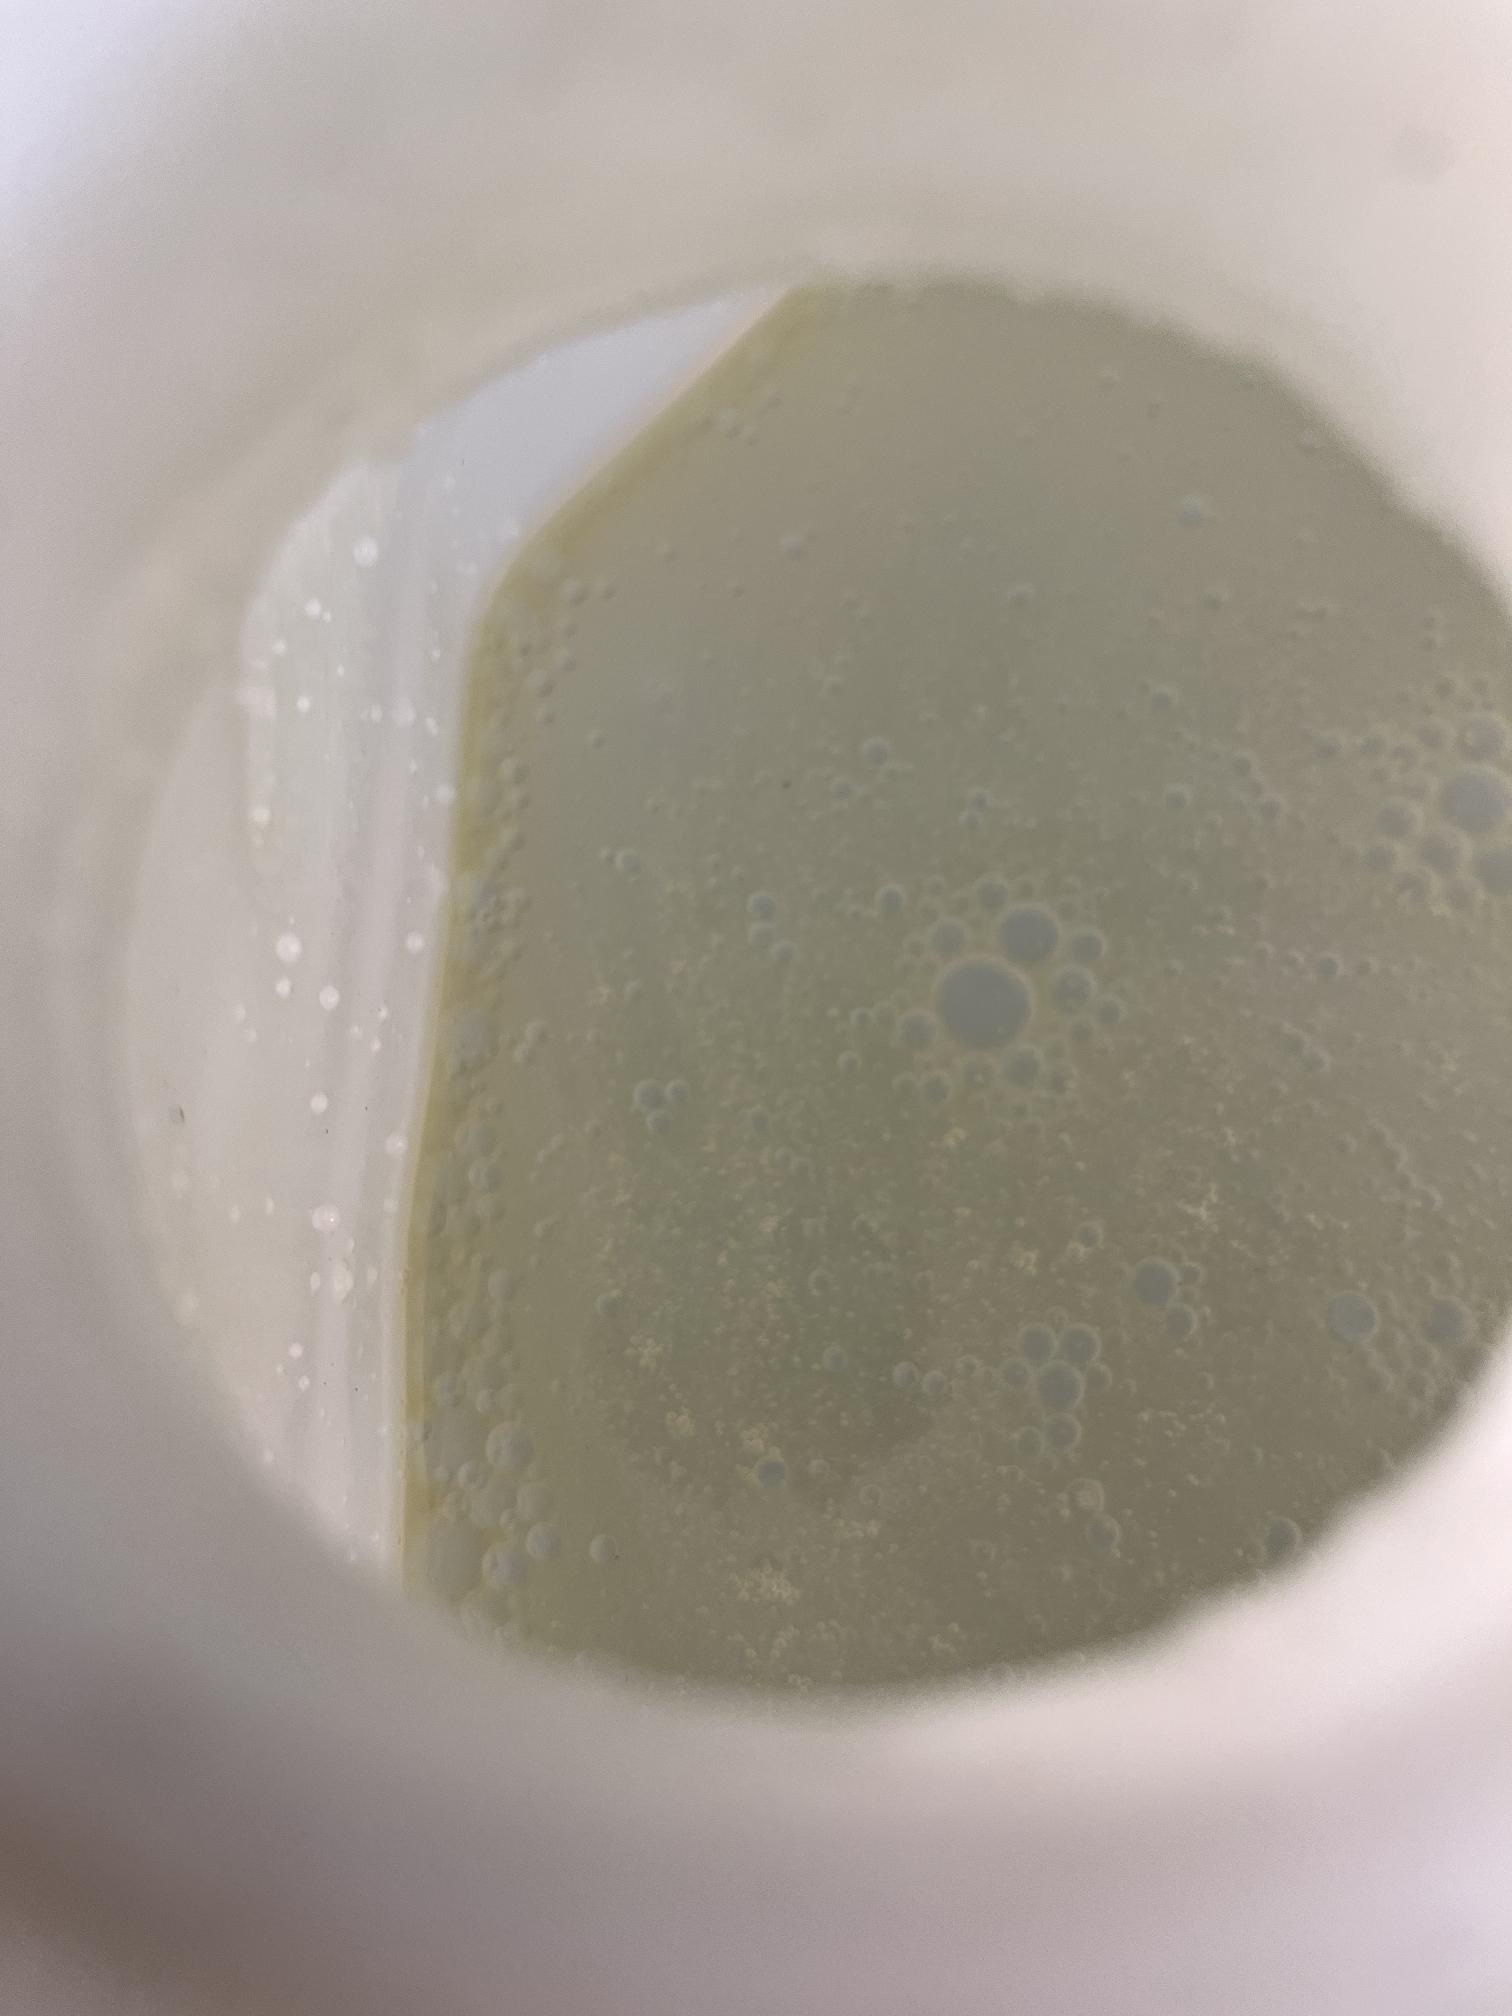Presenca de Oleo - - 170ml: (145, 175, 1475, 1749)
